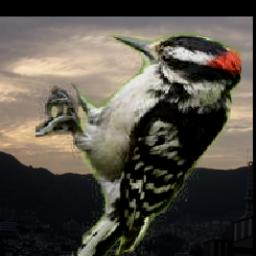Woodpecker: (37, 29, 242, 256)
